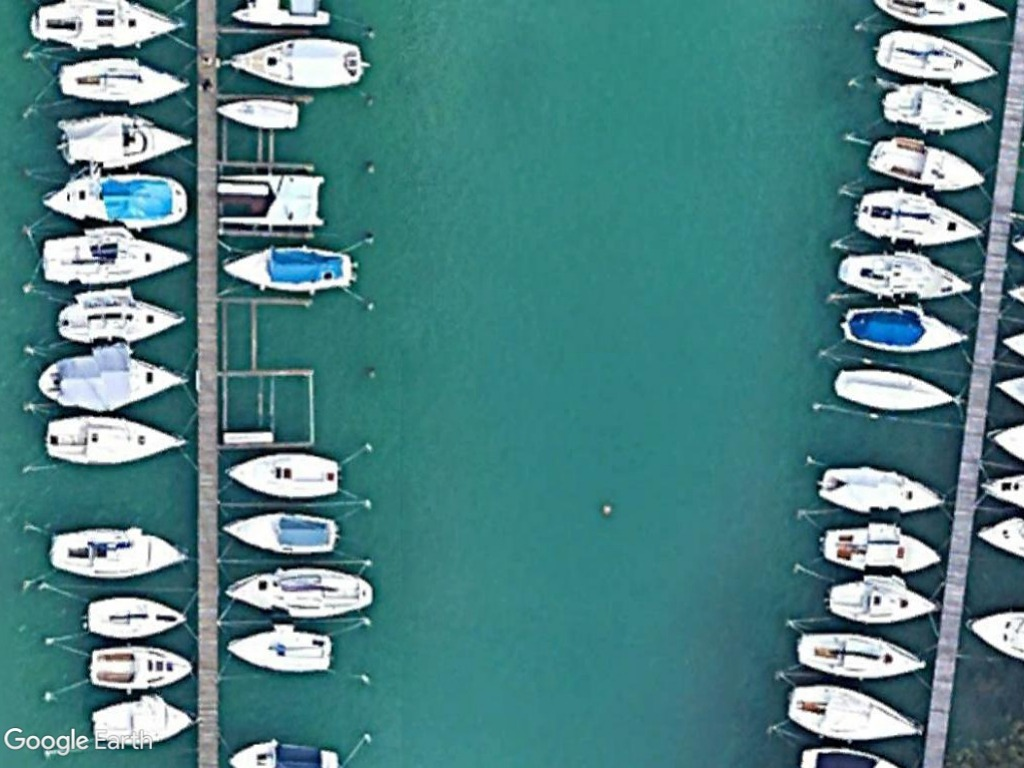boat: (31, 347, 191, 413), (24, 0, 189, 56), (221, 564, 376, 623), (36, 409, 189, 468), (38, 231, 193, 289), (782, 681, 923, 744), (39, 172, 191, 230), (224, 35, 369, 93), (849, 187, 984, 248), (872, 24, 1000, 87), (54, 286, 189, 345), (789, 629, 930, 684), (862, 132, 987, 194), (815, 463, 949, 520), (832, 248, 971, 302), (56, 114, 192, 169), (836, 304, 972, 359), (880, 79, 994, 144), (48, 528, 191, 579), (221, 242, 358, 295), (54, 56, 192, 108), (814, 521, 943, 576), (825, 366, 958, 416), (215, 509, 344, 558), (818, 576, 941, 627), (222, 453, 346, 500), (83, 643, 194, 695), (224, 627, 334, 679), (86, 693, 194, 744), (81, 594, 188, 642), (213, 98, 303, 133)
